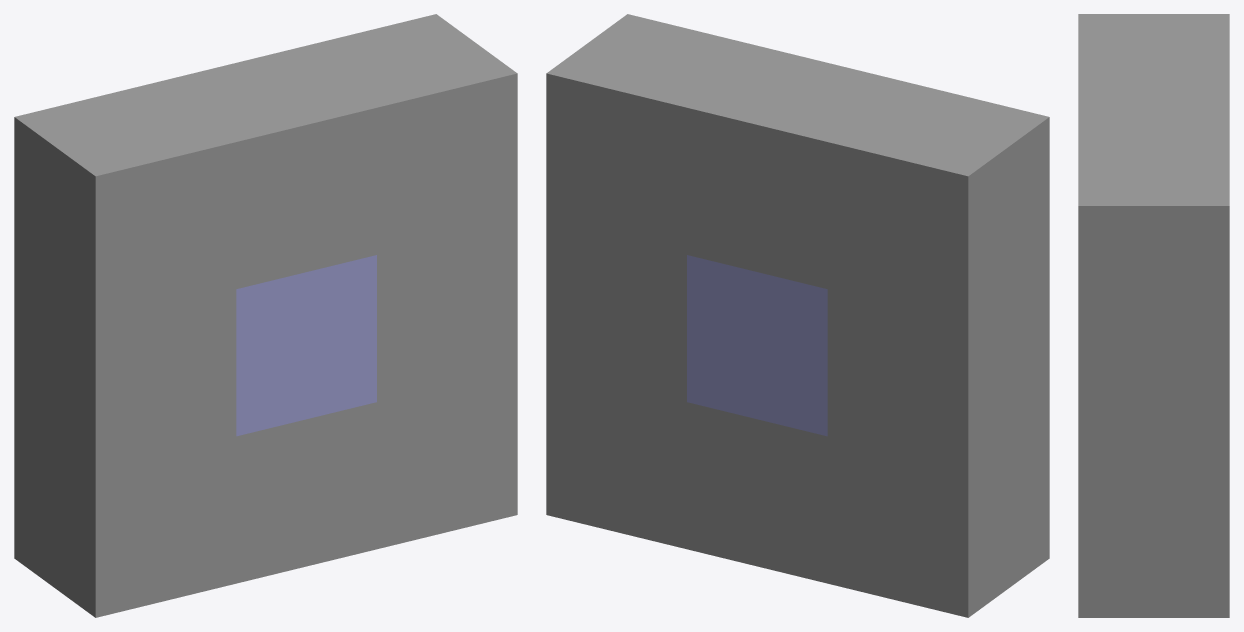
3 views of the same model, side by side, from view 1: azimuth 30°, elevation 25°; view 2: azimuth 150°, elevation 25°; view 3: azimuth 270°, elevation 25° (orthographic). The views are drawn at different scales.
Size of the model in its own units: 1 by 1 by 0.3333.
